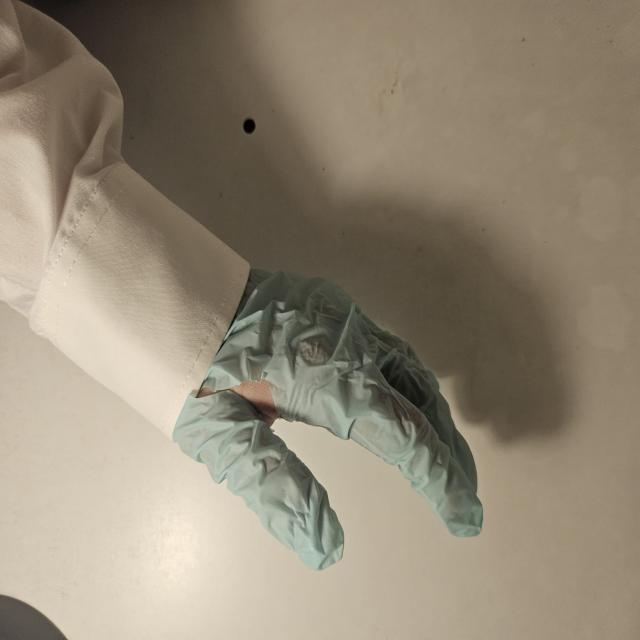gloves_damaged: (173, 256, 489, 572)
